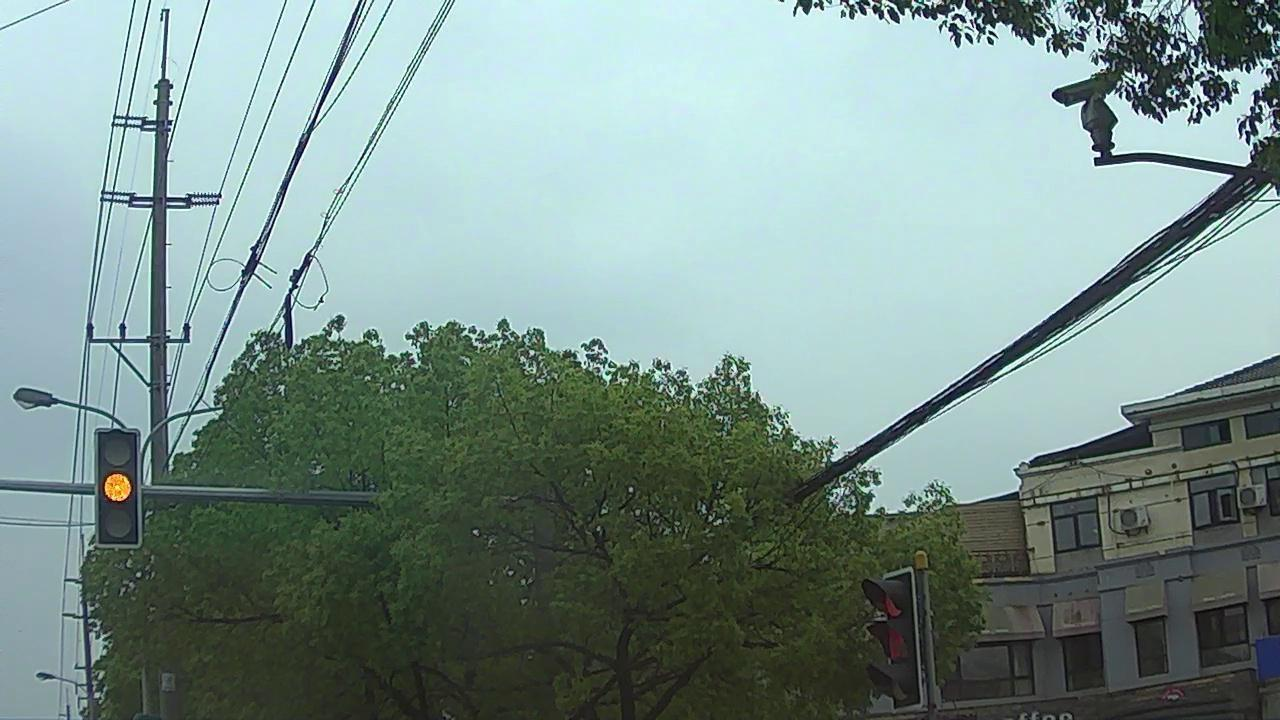traffic_light: (97, 429, 141, 544)
